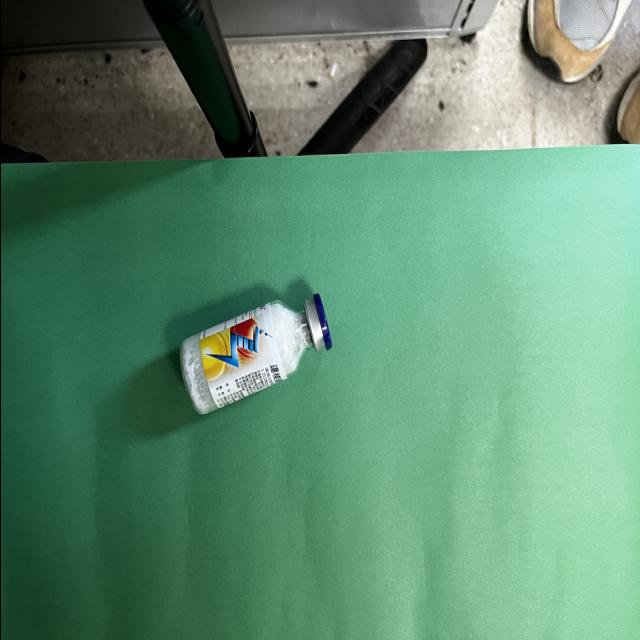Vials: (179, 294, 331, 414)
